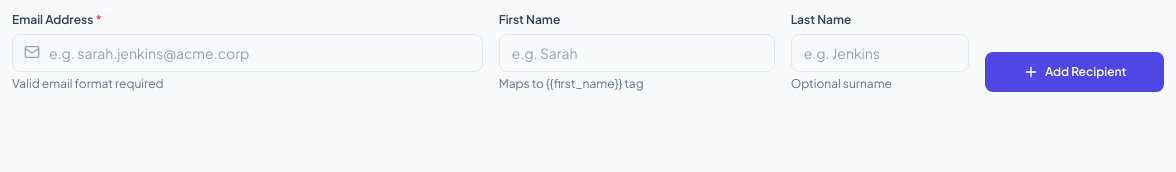
Campaign Recipient Management (C12.3) › RecipientManualForm Component › rejects invalid email format
Type "invalid-email" into the field labelled "Email Address *".
click(247, 53); type("invalid-email")  # box [12,34,483,72]
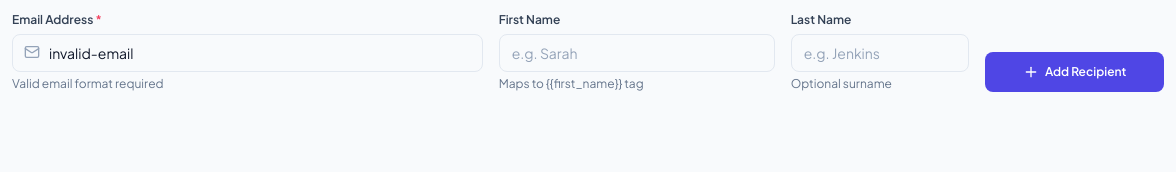
Click the button "Add Recipient".
click(1075, 72)  # box [985,52,1164,92]
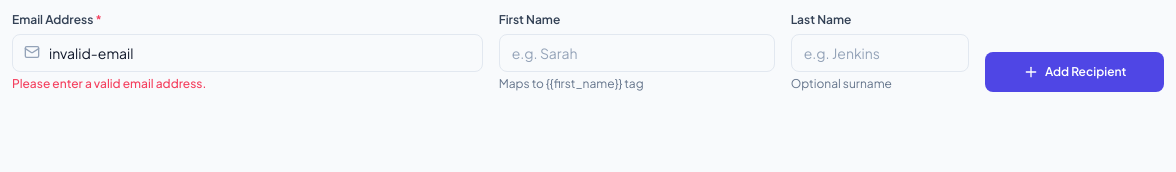
Expected: the text "Please enter a valid email address." is shown, [12,76,206,91]
